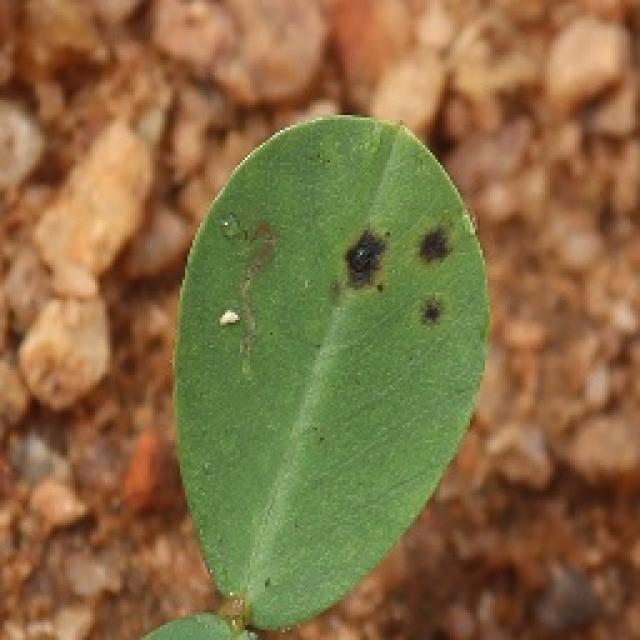Yellowish: (120, 99, 552, 451)
